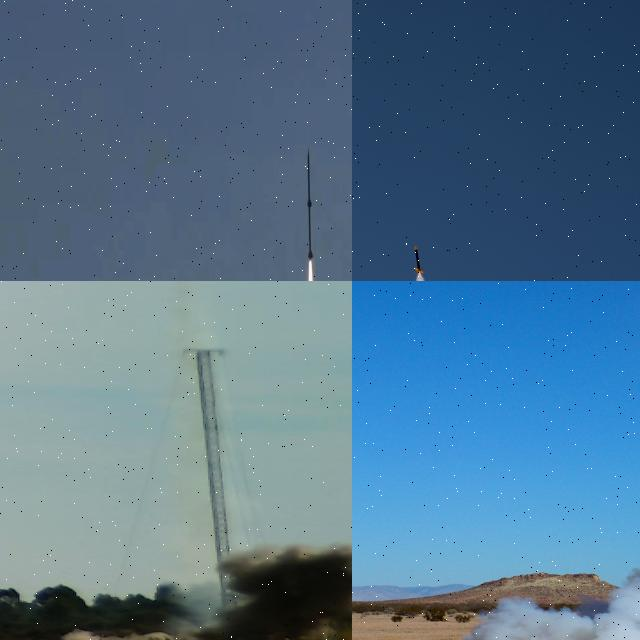Rocket: (306, 148, 313, 262), (414, 246, 424, 274)
